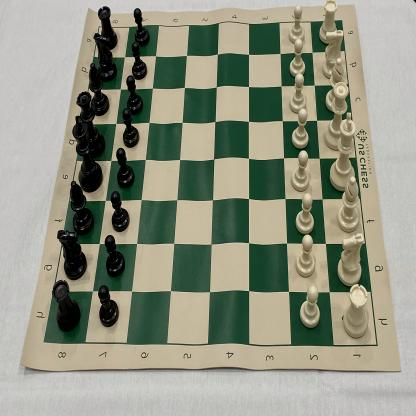black-bishop: (69, 181, 94, 234), (88, 63, 110, 116)
black-king: (70, 116, 102, 192)
black-pawn: (98, 282, 119, 330), (105, 233, 124, 277), (122, 104, 140, 148), (111, 187, 129, 231), (116, 145, 134, 187), (126, 74, 144, 113), (130, 41, 148, 79)
black-queen: (76, 90, 100, 150)
black-rook: (57, 226, 87, 280), (52, 279, 82, 332), (94, 32, 117, 79), (97, 6, 117, 50)
white-bishop: (337, 230, 365, 286), (337, 174, 362, 230), (325, 58, 347, 112)
white-knight: (321, 29, 344, 78)
white-pawn: (295, 234, 320, 278), (299, 285, 324, 329), (291, 149, 314, 193), (291, 108, 314, 149), (295, 194, 319, 233), (289, 73, 309, 113), (289, 38, 309, 76), (289, 5, 309, 42)
white-queen: (329, 112, 358, 191), (324, 82, 351, 150)
white-rook: (342, 281, 370, 339), (318, 0, 340, 44), (133, 8, 150, 46)
